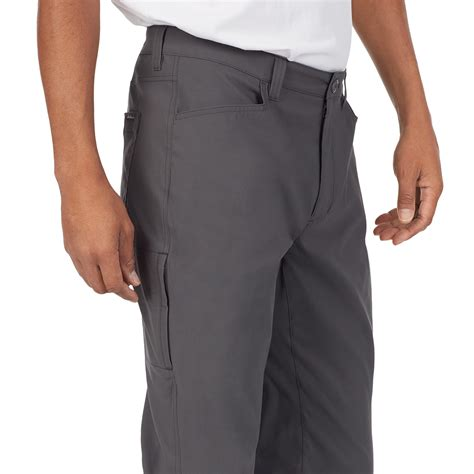nylon: (121, 22, 376, 474)
